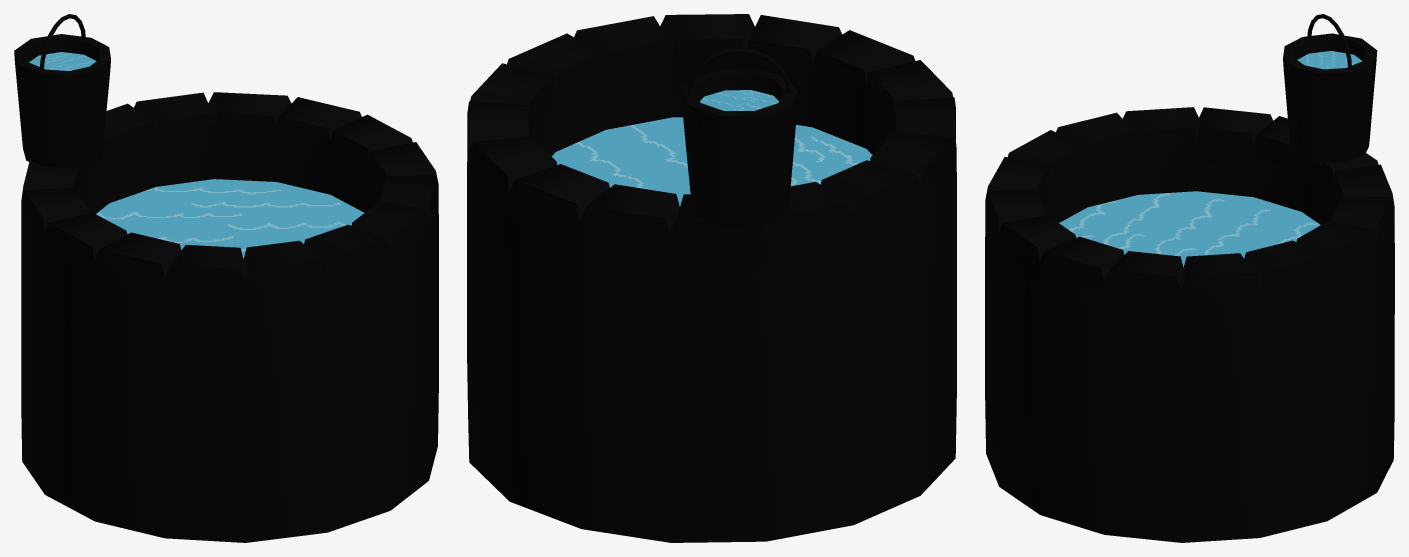
File: well.fbx
3 renders of one model, left to right at view 1: azimuth 30°, elevation 25°; view 2: azimuth 150°, elevation 25°; view 3: azimuth 270°, elevation 25°, orthographic. The views are drawn at different scales.
Parts seen in each view (by area): view 1: well002, water001, bucket002, water bucket001; view 2: well002, bucket002, water001, water bucket001, bucket handle002; view 3: well002, water001, bucket002, water bucket001.
Boxes of the visible parts, x1=… form: well002: x1=21, y1=92, x2=438, y2=542; water001: x1=96, y1=179, x2=364, y2=258; bucket002: x1=14, y1=34, x2=110, y2=168; water bucket001: x1=29, y1=52, x2=96, y2=70; well002: x1=467, y1=14, x2=956, y2=542; bucket002: x1=681, y1=69, x2=798, y2=228; water001: x1=552, y1=117, x2=872, y2=206; water bucket001: x1=700, y1=90, x2=778, y2=110; bucket handle002: x1=687, y1=48, x2=791, y2=93; well002: x1=985, y1=107, x2=1394, y2=542; water001: x1=1059, y1=191, x2=1320, y2=267; bucket002: x1=1283, y1=33, x2=1377, y2=164; water bucket001: x1=1297, y1=51, x2=1362, y2=69.
Size of the model in its own units: 116 by 124 by 117.
5 materials, 4 textured.
